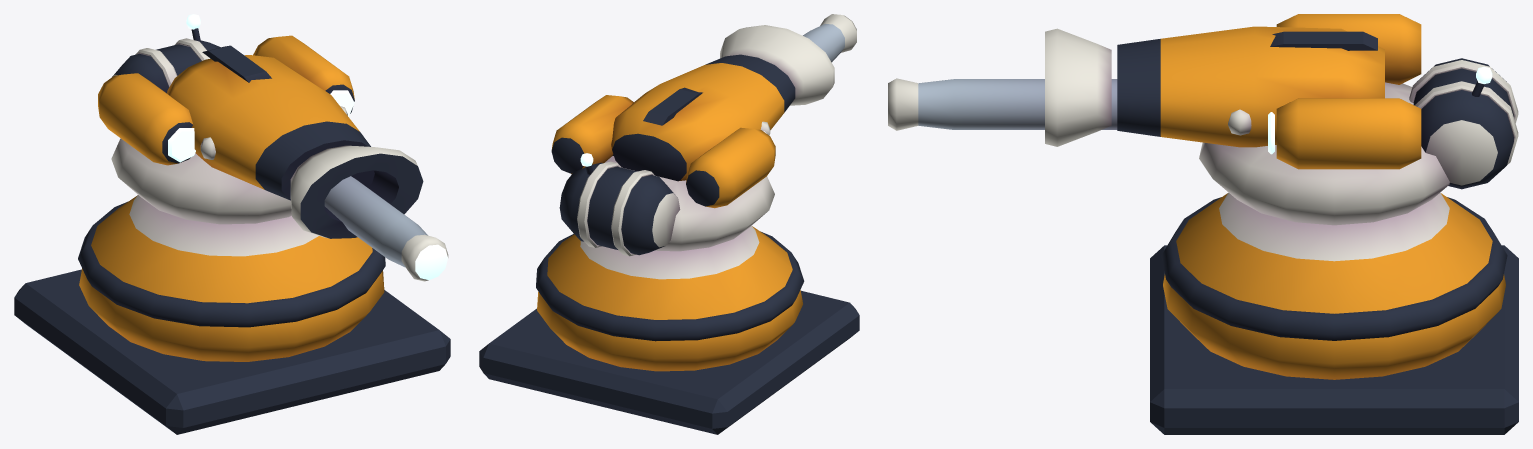
The model's file is R4W_Basic_LOD1.fbx.
3 renders of one model, left to right at view 1: azimuth 30°, elevation 25°; view 2: azimuth 150°, elevation 25°; view 3: azimuth 270°, elevation 25°, orthographic. The views are drawn at different scales.
Visible parts, largest first — view 1: R4W_Basic_LOD1; view 2: R4W_Basic_LOD1; view 3: R4W_Basic_LOD1.
Boxes of the visible parts, bbox=[...] form: R4W_Basic_LOD1: bbox=[14, 14, 450, 434]; R4W_Basic_LOD1: bbox=[479, 14, 859, 434]; R4W_Basic_LOD1: bbox=[888, 14, 1518, 434].
Bounding box in the file's own units: 0.51 × 0.496 × 0.872.
